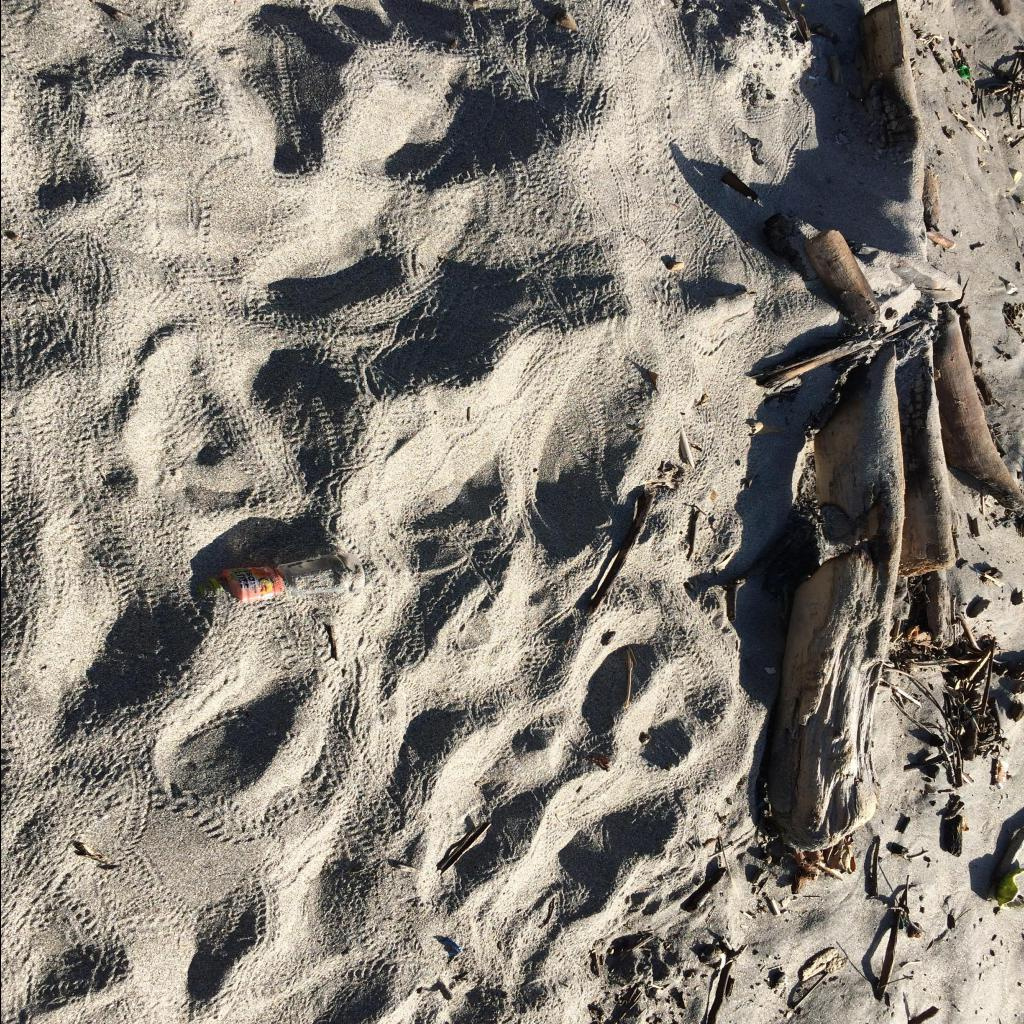Clear plastic bottle: (196, 552, 364, 602)
